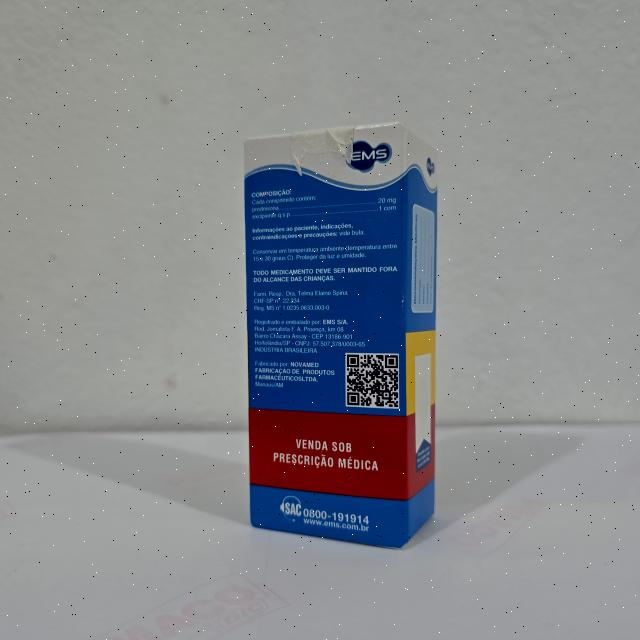prednisona: (237, 116, 442, 554)
